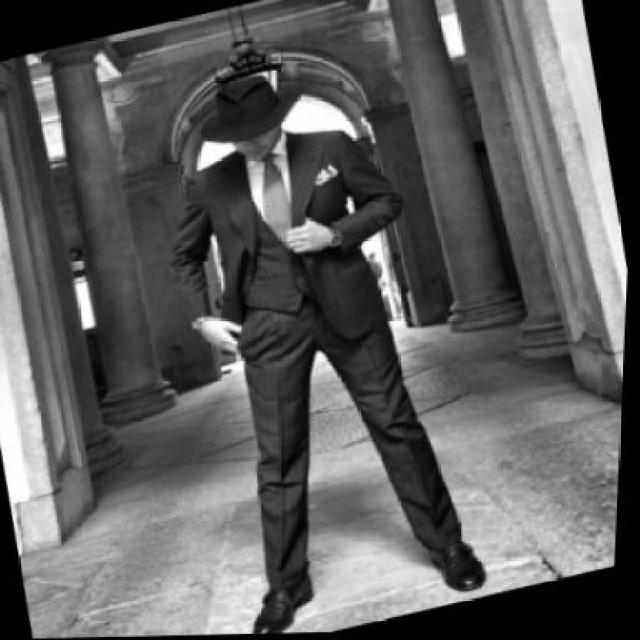hat: (178, 60, 319, 158)
